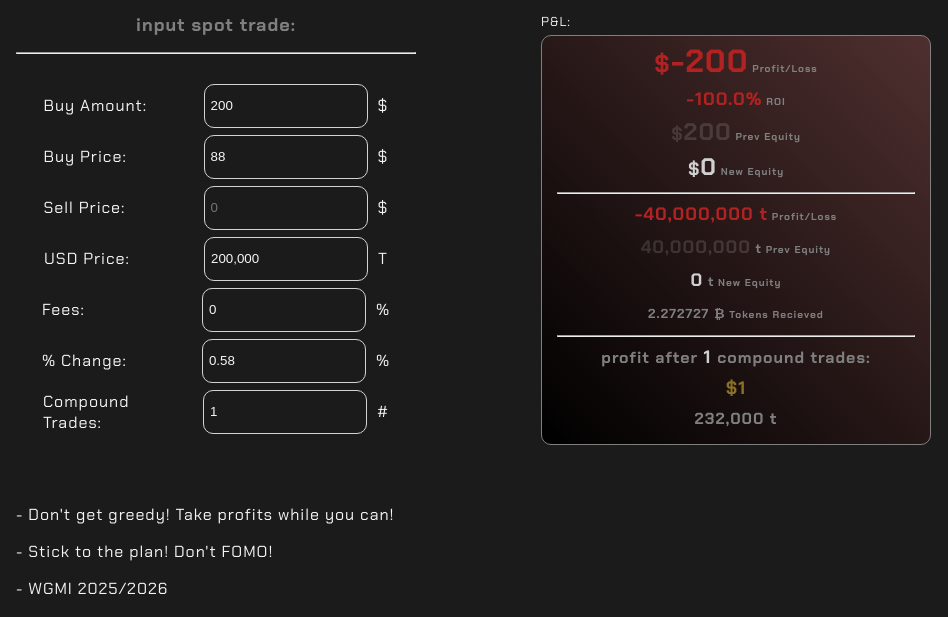
Test case: Spot Component - Compound Trades Logic › calculates compound profit with updated inputs
The width and height of the screenshot is (948, 617).
Replace the text in the field showing "200" next to "Buy Amount:" with "1000" at (286, 106), box [204, 84, 368, 128]
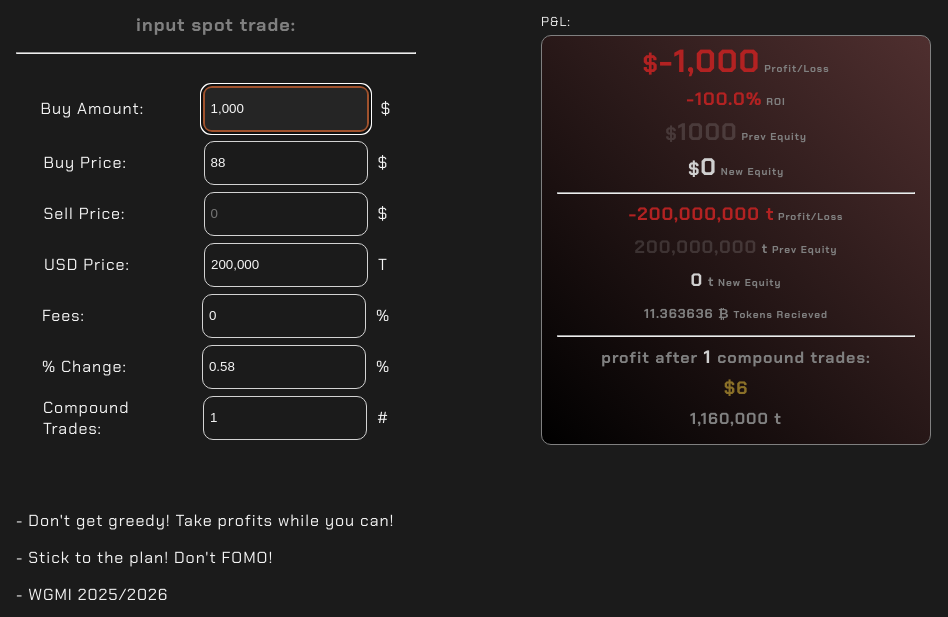
Replace the text in the field showing "0.58" next to "% Change:" with "5" at (284, 367), box [202, 345, 366, 389]
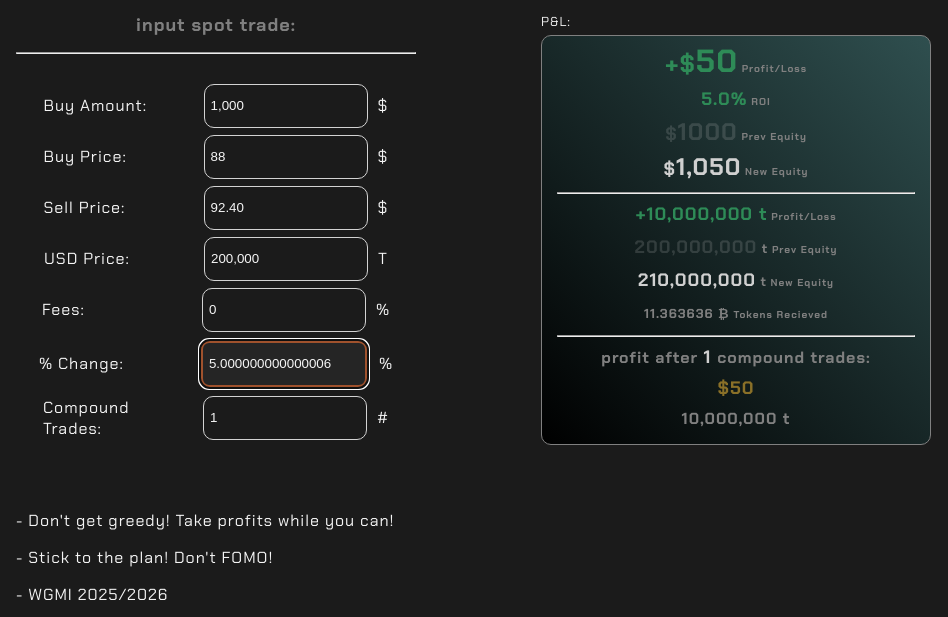
Type "3" into the 7th field showing "1" at (285, 418), box [203, 396, 367, 440]
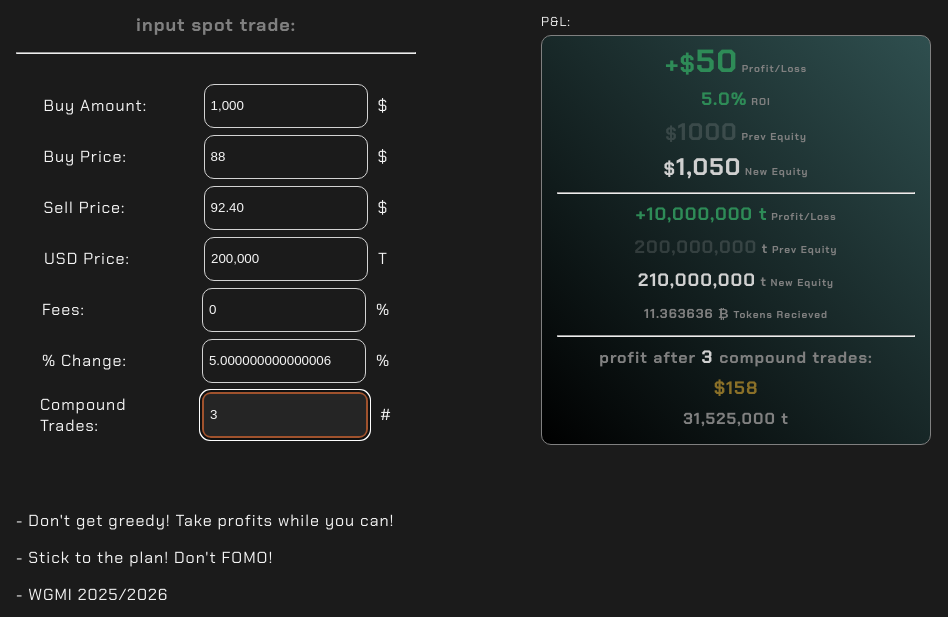
Expected: the text "$158" is shown, [714, 376, 758, 400]
